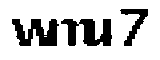7: (116, 6, 151, 51)
m: (50, 15, 92, 52)
u: (86, 16, 115, 49)
w: (7, 16, 54, 49)
